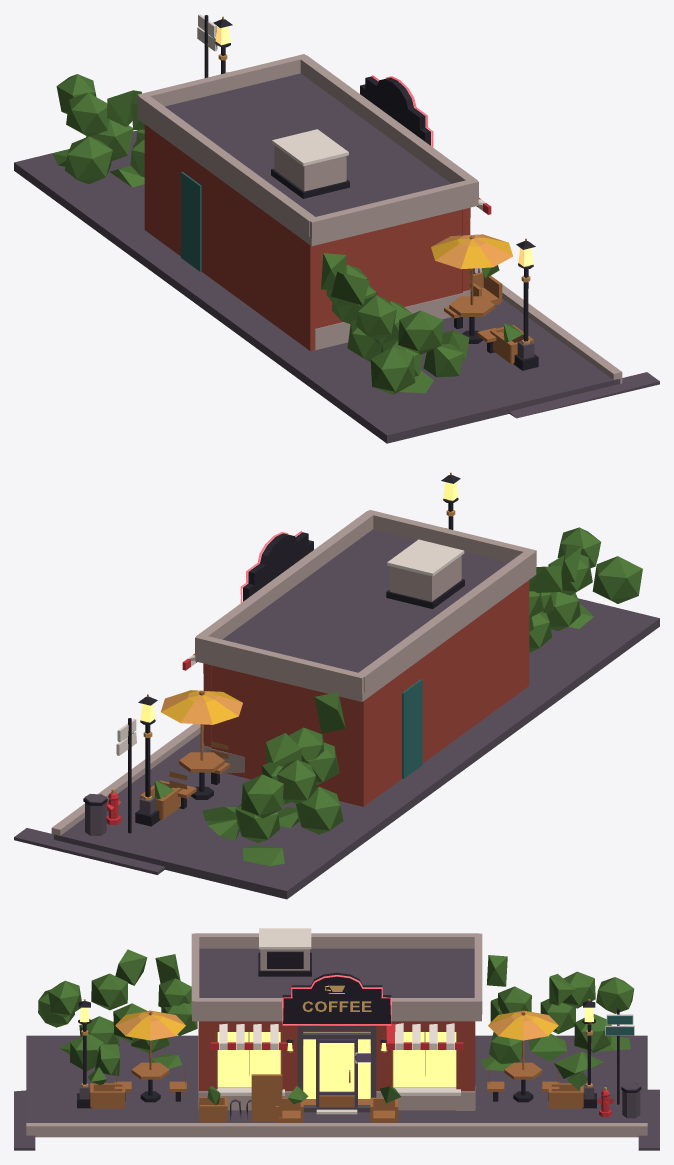
The picture shows the model from 3 angles, top to bottom: view 1: azimuth 30°, elevation 25°; view 2: azimuth 150°, elevation 25°; view 3: azimuth 270°, elevation 25°; orthographic projection. The views are drawn at different scales.
Visible parts, largest first — view 1: body_pal_asphalt, body_pal_brick, roof_pal_sidewalk, body_pal_foliageDark, roof_pal_asphalt, body_pal_sidewalk, roof_pal_uiDark, body_pal_woodWarm, body_pal_uiDark, body_pal_backpackTeal, roof_pal_picketWhite, body_pal_orange (+1 smaller); view 2: body_pal_asphalt, body_pal_brick, roof_pal_sidewalk, body_pal_foliageDark, roof_pal_asphalt, roof_pal_uiDark, body_pal_uiDark, body_pal_sidewalk, body_pal_woodWarm, body_pal_backpackTeal, roof_pal_picketWhite, body_pal_schoolBusYellow (+1 smaller); view 3: body_pal_asphalt, body_pal_foliageDark, body_pal_sidewalk, roof_pal_asphalt, roof_pal_sidewalk, body_pal_woodWarm, body_pal_brick, roof_pal_uiDark, body_pal_picketWhite, window_right_emi_windowGlow, window_left_emi_windowGlow, body_pal_uiDark (+13 smaller).
Part boxes in pixels (x1=…): body_pal_asphalt: x1=14, y1=130, x2=659, y2=443; body_pal_brick: x1=144, y1=124, x2=470, y2=350; roof_pal_sidewalk: x1=137, y1=54, x2=478, y2=246; body_pal_foliageDark: x1=53, y1=74, x2=523, y2=394; roof_pal_asphalt: x1=165, y1=73, x2=451, y2=216; body_pal_sidewalk: x1=315, y1=268, x2=622, y2=383; roof_pal_uiDark: x1=271, y1=76, x2=430, y2=198; body_pal_woodWarm: x1=444, y1=235, x2=533, y2=364; body_pal_uiDark: x1=204, y1=15, x2=538, y2=370; body_pal_backpackTeal: x1=181, y1=26, x2=217, y2=271; roof_pal_picketWhite: x1=272, y1=129, x2=348, y2=166; body_pal_orange: x1=226, y1=72, x2=512, y2=268; body_pal_asphalt: x1=14, y1=598, x2=659, y2=899; body_pal_brick: x1=203, y1=580, x2=529, y2=806; roof_pal_sidewalk: x1=195, y1=510, x2=536, y2=701; body_pal_foliageDark: x1=154, y1=527, x2=642, y2=866; roof_pal_asphalt: x1=222, y1=529, x2=508, y2=672; roof_pal_uiDark: x1=243, y1=532, x2=464, y2=608; body_pal_uiDark: x1=83, y1=475, x2=460, y2=833; body_pal_sidewalk: x1=51, y1=724, x2=244, y2=839; body_pal_woodWarm: x1=140, y1=690, x2=229, y2=819; body_pal_backpackTeal: x1=116, y1=679, x2=422, y2=778; roof_pal_picketWhite: x1=387, y1=539, x2=464, y2=576; body_pal_schoolBusYellow: x1=161, y1=528, x2=447, y2=724; body_pal_asphalt: x1=14, y1=1025, x2=659, y2=1150; body_pal_foliageDark: x1=38, y1=949, x2=634, y2=1105; body_pal_sidewalk: x1=26, y1=1029, x2=647, y2=1137; roof_pal_asphalt: x1=199, y1=948, x2=474, y2=997; roof_pal_sidewalk: x1=191, y1=933, x2=482, y2=1021; body_pal_woodWarm: x1=90, y1=1011, x2=583, y2=1122; body_pal_brick: x1=198, y1=1021, x2=475, y2=1091; roof_pal_uiDark: x1=258, y1=951, x2=391, y2=1023; body_pal_picketWhite: x1=216, y1=1014, x2=634, y2=1114; window_right_emi_windowGlow: x1=393, y1=1032, x2=456, y2=1087; window_left_emi_windowGlow: x1=217, y1=1032, x2=280, y2=1087; body_pal_uiDark: x1=77, y1=1001, x2=641, y2=1108.
Size of the model in its own units: 7.4 by 4.76 by 18.72.
